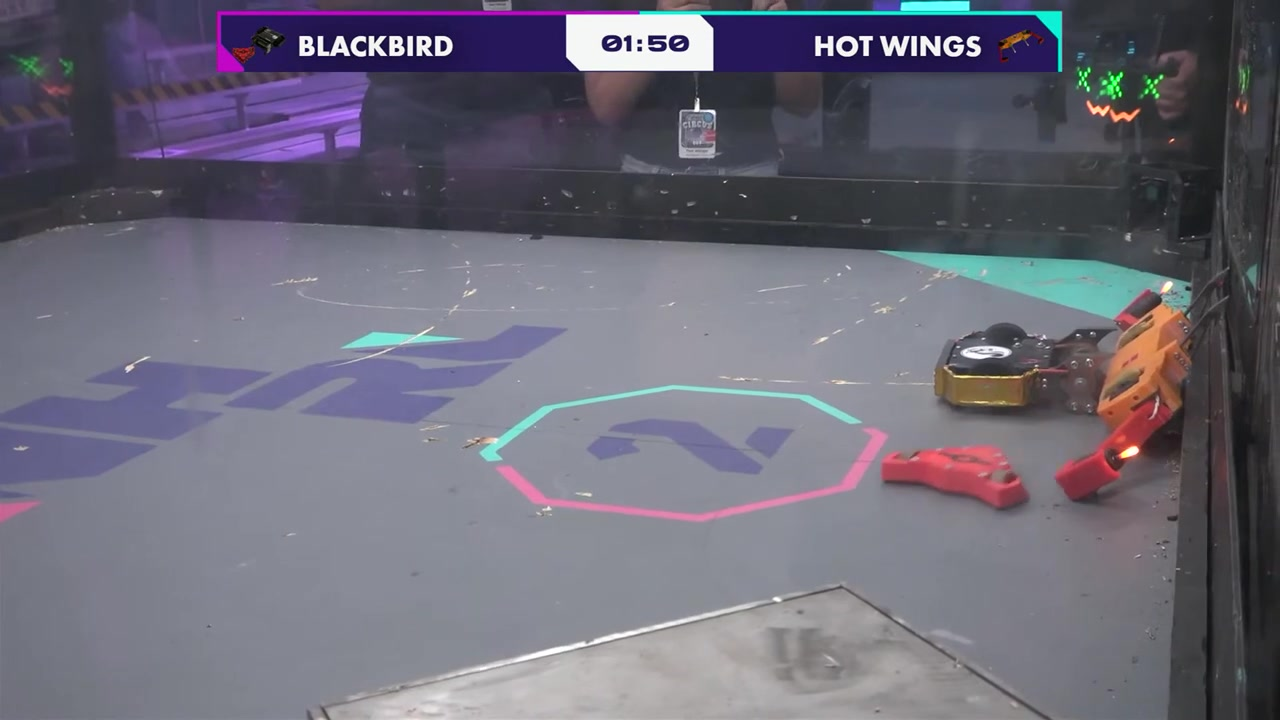combatbot: (1052, 269, 1236, 505), (932, 323, 1115, 412)
housebot: (305, 578, 1055, 719)
minibot: (880, 443, 1030, 514)
